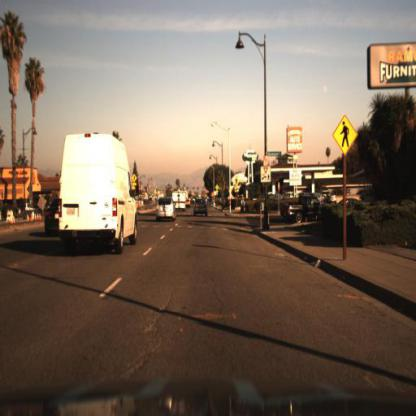car: (58, 131, 142, 260), (279, 191, 329, 228), (41, 193, 65, 245), (286, 195, 322, 224), (154, 198, 178, 227), (192, 194, 210, 220), (172, 191, 189, 215), (188, 193, 200, 211)
pedestrian: (239, 195, 248, 216)
truck: (56, 130, 138, 260), (172, 183, 188, 215)
